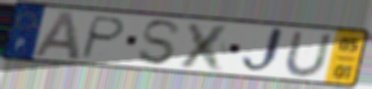A: (30, 10, 83, 62)
J: (239, 25, 287, 77)
P: (77, 14, 128, 61)
S: (135, 19, 184, 67)
U: (283, 30, 335, 79)
X: (175, 20, 234, 73)
